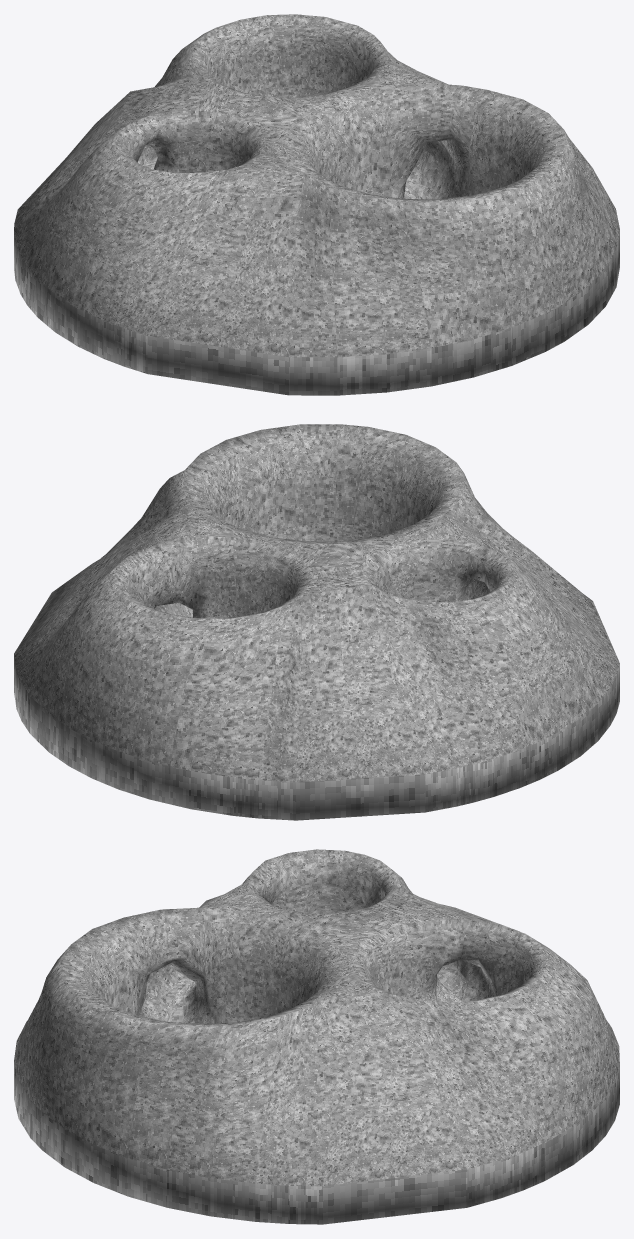
The model's file is map-three-rooms-with-tunnels.fbx.
3 renders of one model, top to bottom at view 1: azimuth 30°, elevation 25°; view 2: azimuth 150°, elevation 25°; view 3: azimuth 270°, elevation 25°, orthographic.
Parts seen in each view (by area): view 1: Cylinder.009; view 2: Cylinder.009; view 3: Cylinder.009.
Boxes of the visible parts, box(x1,y1,x2,y2) form: Cylinder.009: box(14, 14, 619, 395); Cylinder.009: box(14, 424, 619, 820); Cylinder.009: box(14, 849, 619, 1224).
Size of the model in its own units: 43.94 by 12.33 by 43.89.
